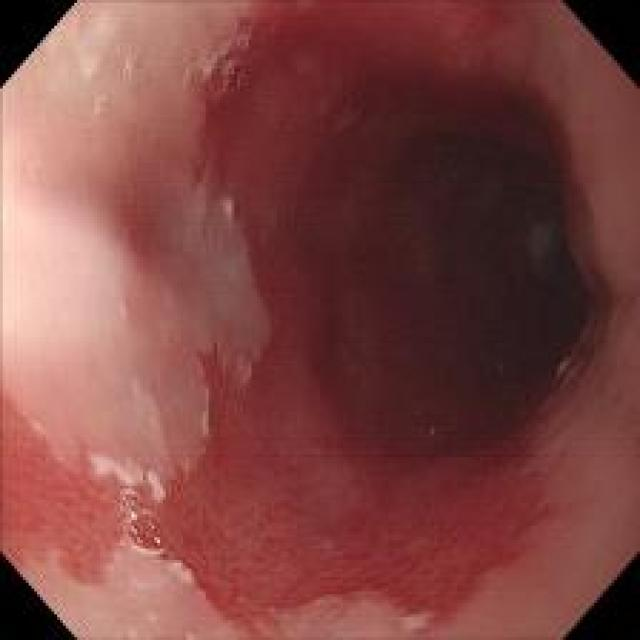bubbles: (115, 485, 175, 556), (222, 55, 244, 101), (124, 54, 151, 86), (420, 405, 442, 442), (180, 61, 204, 88), (94, 92, 111, 121), (115, 298, 132, 324), (110, 370, 121, 388)
contrast: (332, 59, 619, 448)
specularity: (130, 524, 145, 542), (130, 509, 138, 522), (152, 536, 162, 545)
